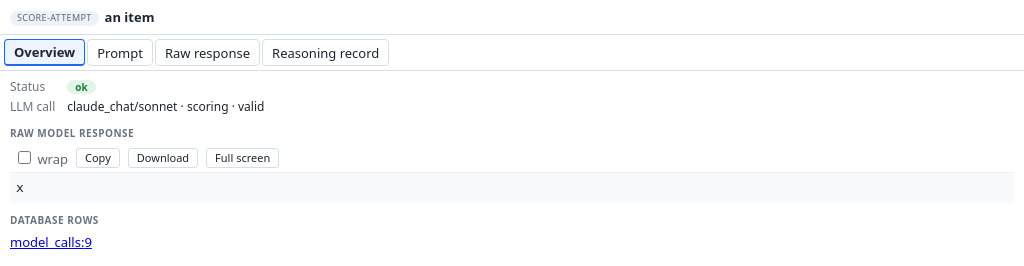
Test: Inspector › reports that a diff is impossible when the template moved on
What coordinates should you click on to do the following:
click the tab "Prompt"
I would click on:
 (120, 53)
Its box is [87, 39, 153, 66].
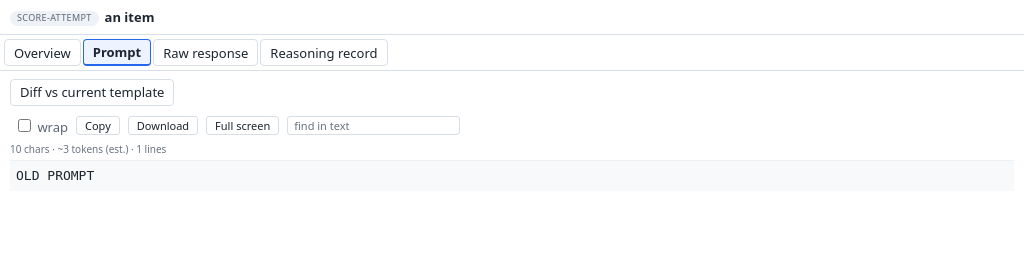
What coordinates should you click on to do the following:
click the button "Diff vs current template"
I would click on:
 (92, 92)
Its box is [10, 79, 174, 106].
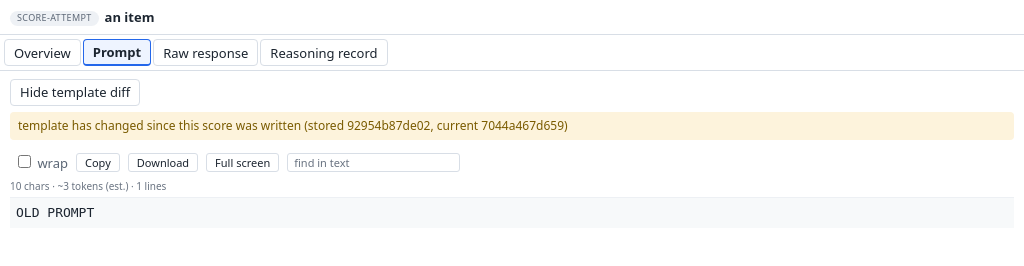
Now the text "template has changed since this score" is shown, box [18, 117, 568, 134]
